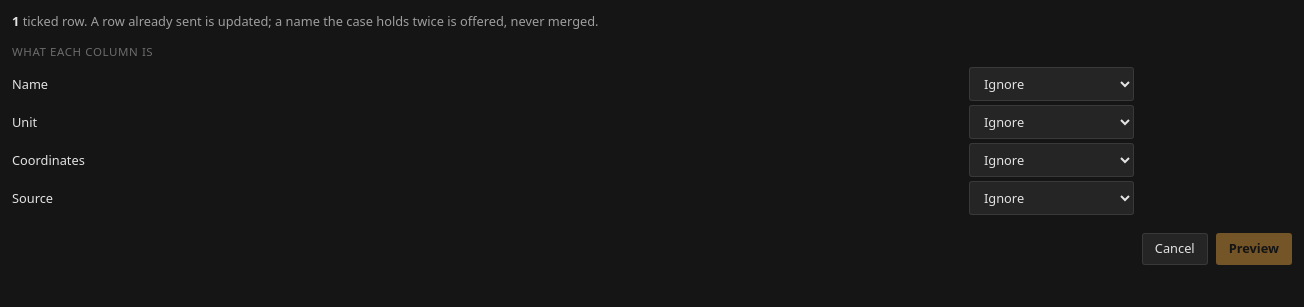
Test case: a whole sheet into the case, in one declaration › says what a declaration is short of rather than greying the press out
Select "Bookmark (links)" in the dropdown named "What Source is": (1052, 198) [969,182,1134,216]
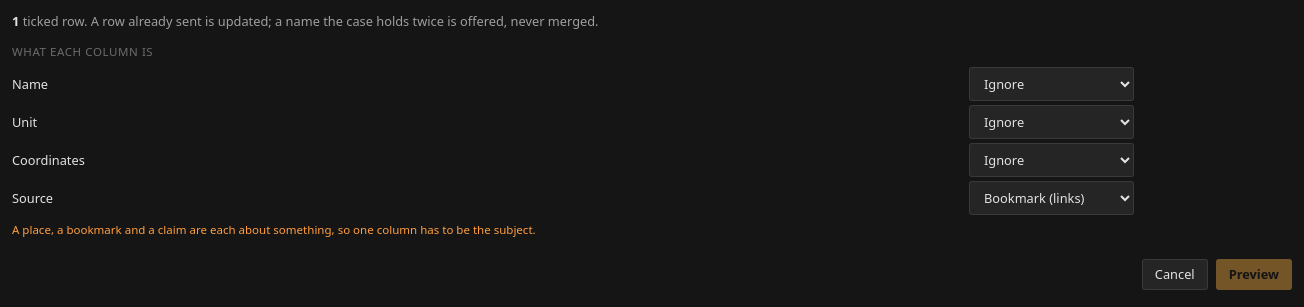
Check: the text with class "note" shows "one column has to be the subject", box [12,222,536,238]
Select "One entity per row" in the dropdown named "What Name is": (1052, 84) [969,68,1134,102]
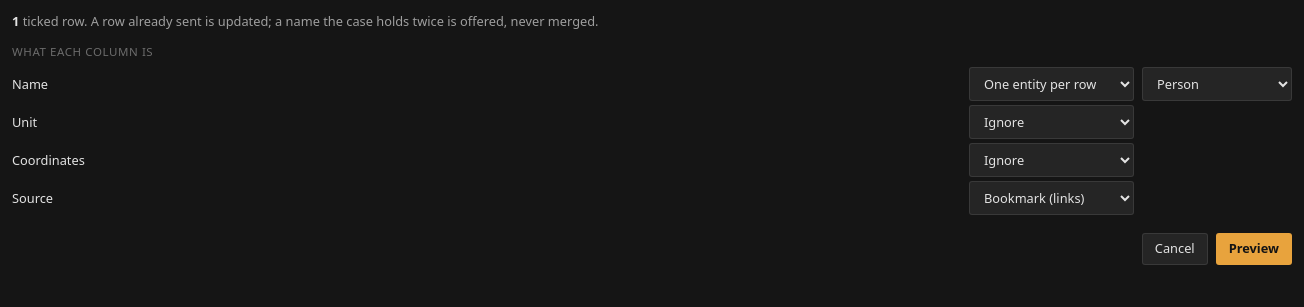
Check: the text with class "note" is gone
